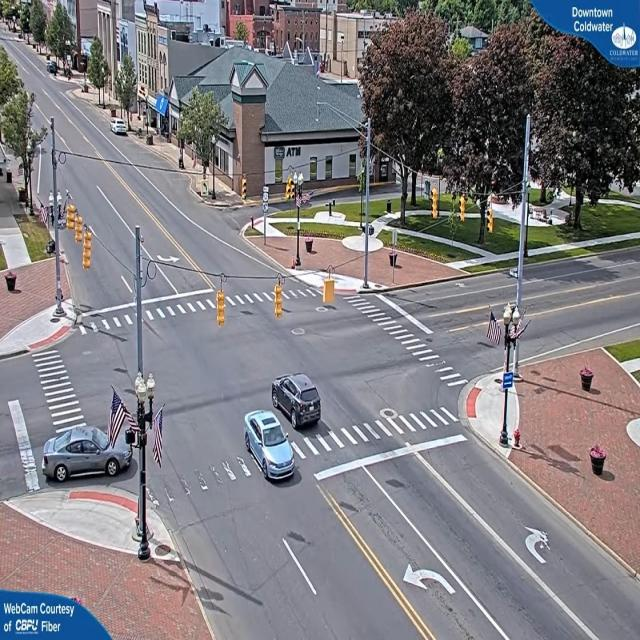car: (40, 424, 129, 486), (246, 411, 298, 483), (270, 374, 322, 430), (112, 121, 130, 138)
